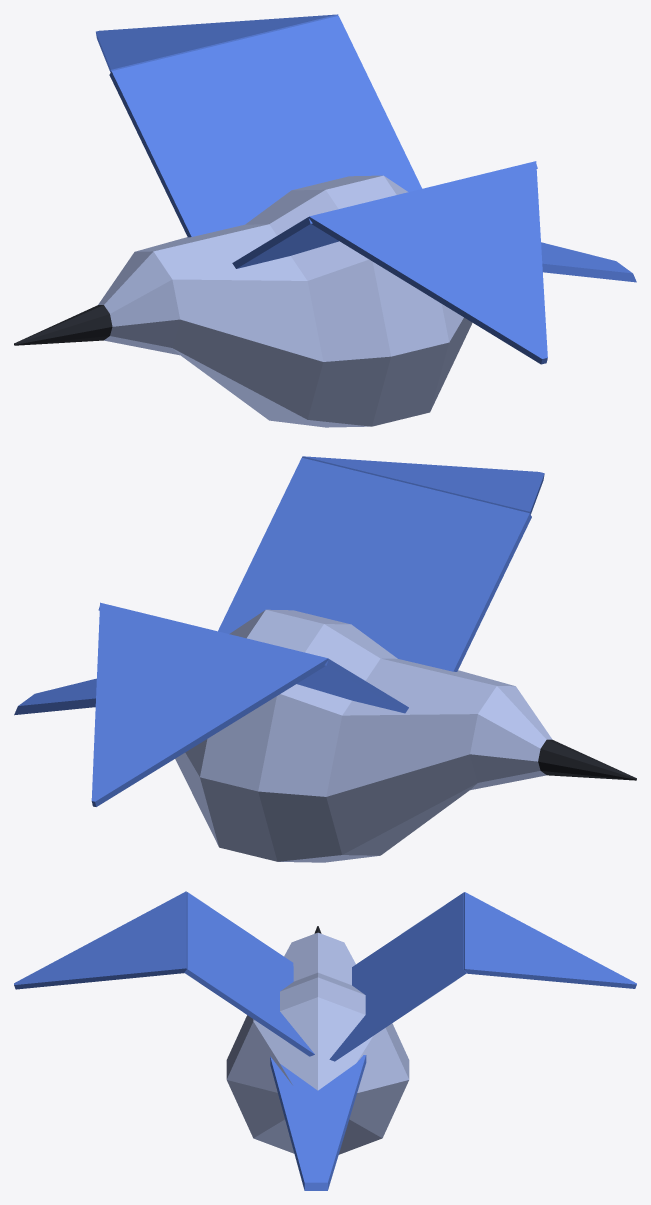
Rendered from bird.fbx.
The picture shows the model from 3 angles, top to bottom: view 1: azimuth 30°, elevation 25°; view 2: azimuth 150°, elevation 25°; view 3: azimuth 270°, elevation 25°; orthographic projection. The views are drawn at different scales.
Visible parts, largest first — view 1: Cube, Icosphere, Icosphere.001; view 2: Cube, Icosphere, Icosphere.001; view 3: Cube, Icosphere.
Boxes of the visible parts, left/top/right/bottom form: Cube: left=96, top=14, right=636, bottom=364; Icosphere: left=98, top=175, right=472, bottom=427; Icosphere.001: left=14, top=305, right=112, bottom=345; Cube: left=14, top=456, right=544, bottom=806; Icosphere: left=175, top=609, right=552, bottom=862; Icosphere.001: left=538, top=739, right=636, bottom=780; Cube: left=14, top=891, right=636, bottom=1190; Icosphere: left=226, top=932, right=409, bottom=1154.
Size of the model in its own units: 539 by 258 by 682.
